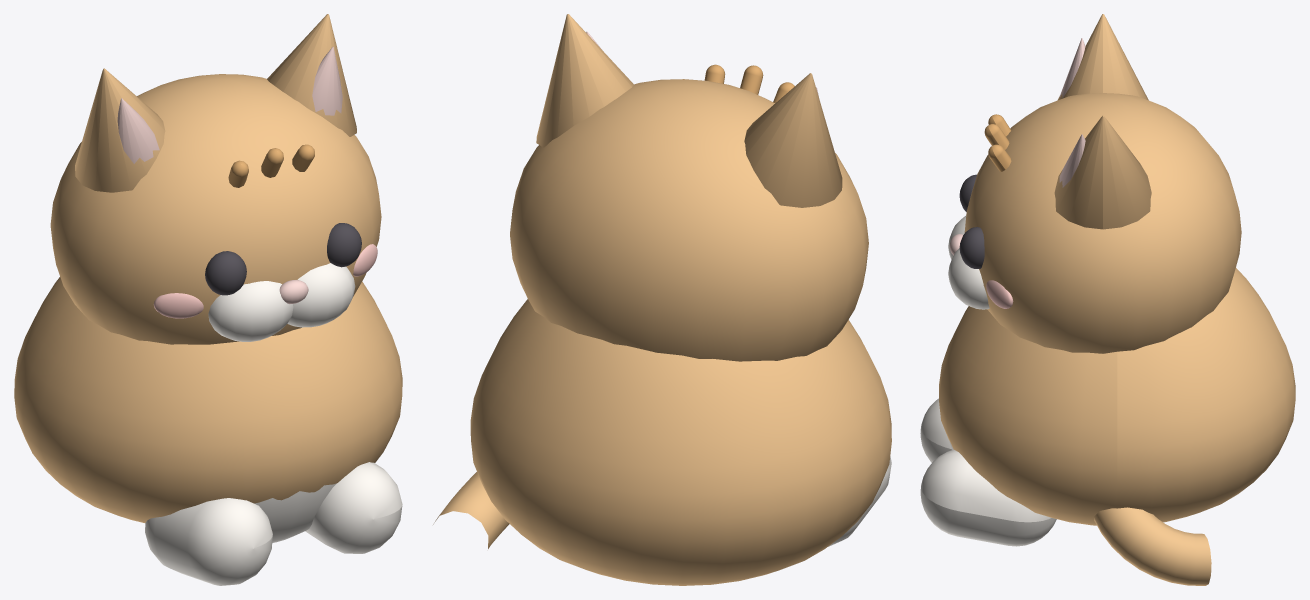
Rendered from campus-cat.glb.
3 renders of one model, left to right at view 1: azimuth 30°, elevation 25°; view 2: azimuth 150°, elevation 25°; view 3: azimuth 270°, elevation 25°, orthographic. The views are drawn at different scales.
Visible parts, largest first — view 1: campus-cat; view 2: campus-cat; view 3: campus-cat.
Boxes of the visible parts, box(x1,y1,x2,y2) form: campus-cat: box(14, 14, 402, 585); campus-cat: box(433, 14, 891, 585); campus-cat: box(920, 14, 1295, 585).
Bounding box in the file's own units: 0.812 × 1.05 × 0.7987.
